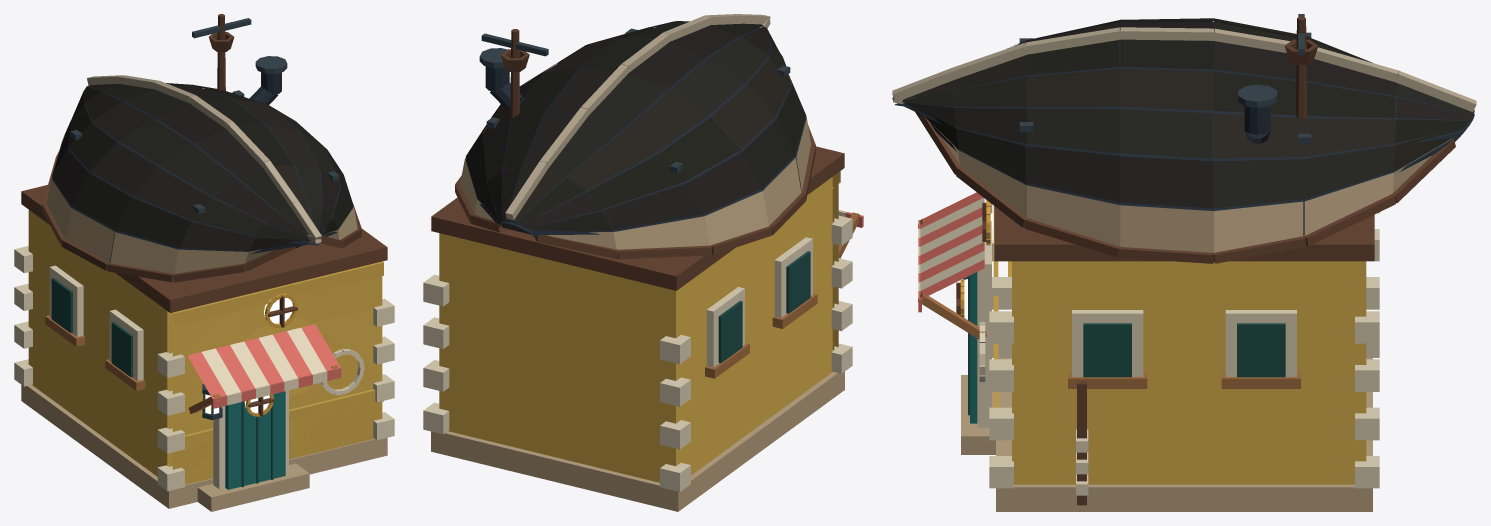
File: net-loft-small-butter.glb
3 renders of one model, left to right at view 1: azimuth 30°, elevation 25°; view 2: azimuth 150°, elevation 25°; view 3: azimuth 270°, elevation 25°, orthographic. The views are drawn at different scales.
Parts seen in each view (by area): view 1: net-loft-small-butter; view 2: net-loft-small-butter; view 3: net-loft-small-butter.
Part boxes in pixels (x1,y1,x2,y2): net-loft-small-butter: [14, 14, 394, 511]; net-loft-small-butter: [423, 14, 863, 511]; net-loft-small-butter: [892, 14, 1476, 511].
Bounding box in the file's own units: 3.42 × 4.53 × 5.16.
